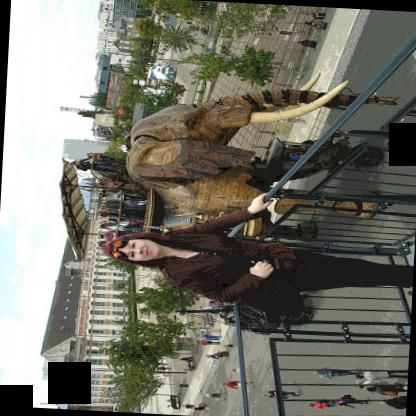handbag: (175, 242, 303, 317), (376, 390, 397, 394), (341, 392, 352, 398), (319, 399, 329, 401)
